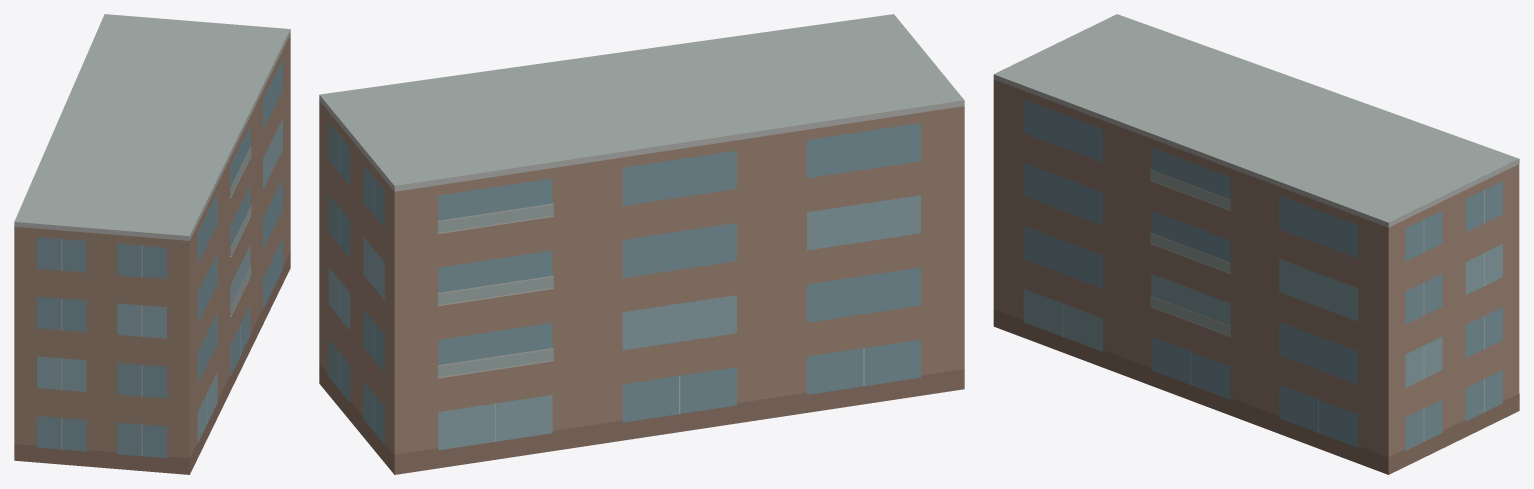
File: survey-upis-32746623.glb
The picture shows the model from 3 angles, left to right: view 1: azimuth 30°, elevation 25°; view 2: azimuth 150°, elevation 25°; view 3: azimuth 270°, elevation 25°; orthographic projection. The views are drawn at different scales.
Parts seen in each view (by area): view 1: survey-upis-32746623.tmp; view 2: survey-upis-32746623.tmp; view 3: survey-upis-32746623.tmp.
Boxes of the visible parts, x1=… form: survey-upis-32746623.tmp: x1=14, y1=14, x2=290, y2=474; survey-upis-32746623.tmp: x1=319, y1=14, x2=964, y2=474; survey-upis-32746623.tmp: x1=993, y1=14, x2=1519, y2=474.
Bounding box in the file's own units: 21.66 × 12.2 × 23.06.
